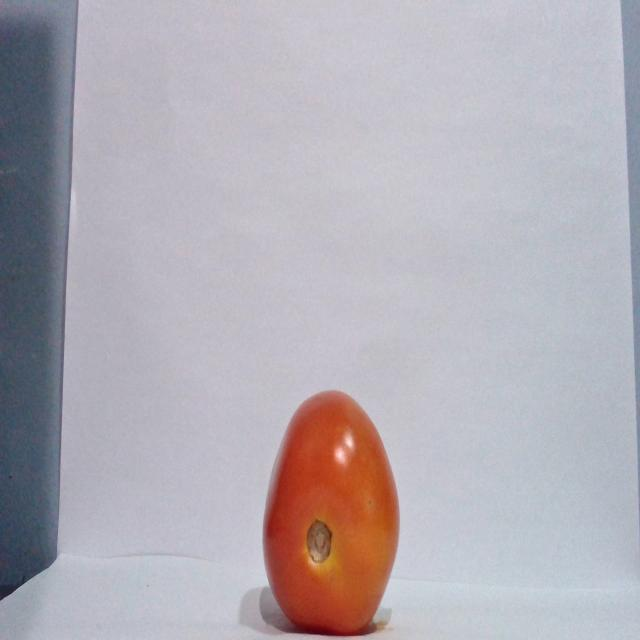Red: (260, 388, 400, 635)
